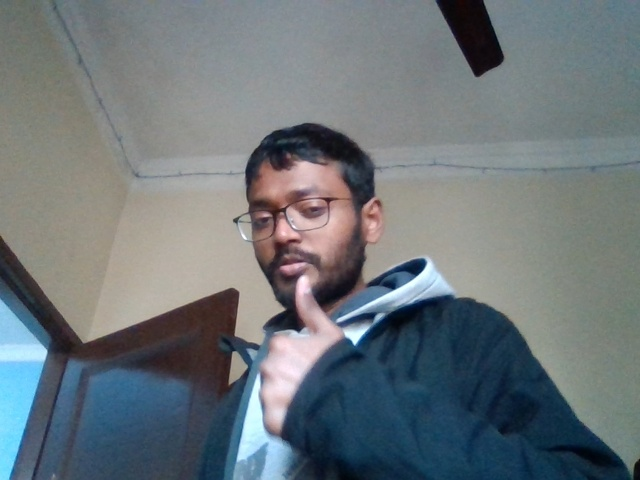good: (260, 286, 374, 431)
